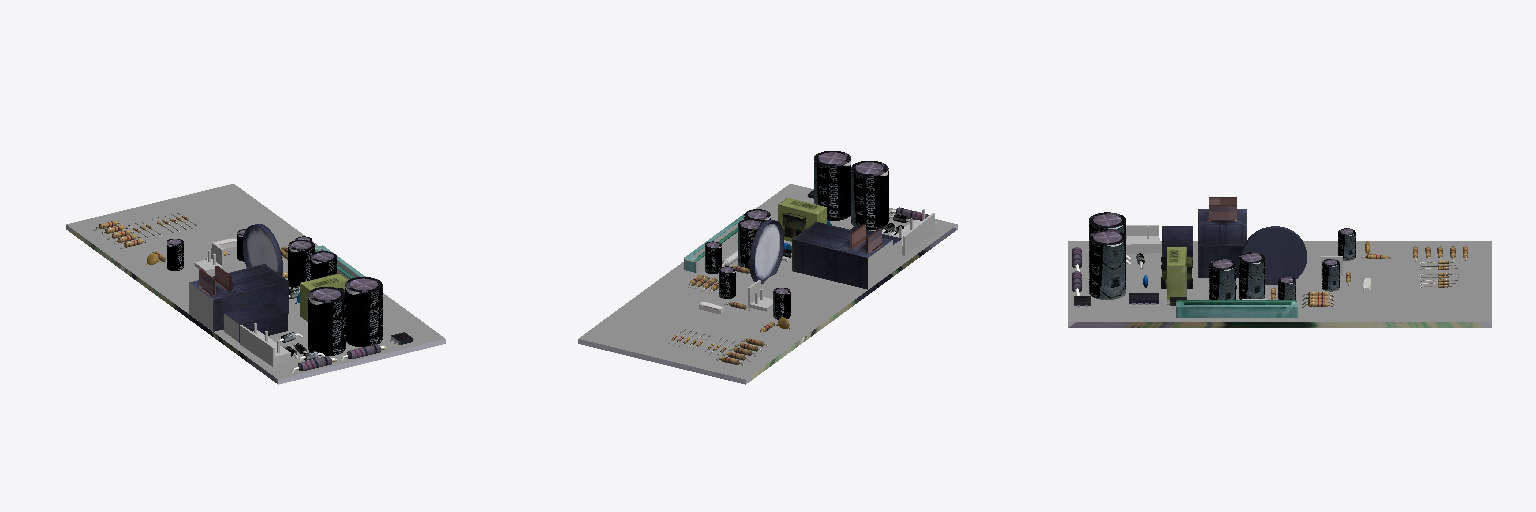
The picture shows the model from 3 angles: view 1: azimuth 30°, elevation 25°; view 2: azimuth 150°, elevation 25°; view 3: azimuth 270°, elevation 25°; orthographic projection.
Visible parts, largest first — view 1: Cube, Cubo, Cilindro.001_Cilindro.050, Cilindro, Cubo.001, Círculo, Cubo.025_Cubo.026, Cilindro.003_Cilindro.052, Cubo.029_Cubo.030, Cilindro.002_Cilindro.051, Cilindro.006_Cilindro.055; view 2: Cube, Cubo, Cilindro, Cilindro.001_Cilindro.050, Círculo, Cubo.031_Cubo.033, Cubo.029_Cubo.030, Cubo.025_Cubo.026, Cilindro.003_Cilindro.052, Cilindro.006_Cilindro.055, Cilindro.005_Cilindro.054; view 3: Cube, Cubo, Cilindro.001_Cilindro.050, Círculo, Cubo.031_Cubo.033, Cilindro.003_Cilindro.052, Cilindro.002_Cilindro.051, Cubo.029_Cubo.030, Cubo.025_Cubo.026, Cubo.001, Cilindro, Cilindro.005_Cilindro.054 (+1 smaller).
Boxes of the visible parts, <box> form: Cube: <box>66,184,445,384</box>; Cubo: <box>189,264,288,331</box>; Cilindro.001_Cilindro.050: <box>345,277,382,346</box>; Cilindro: <box>308,287,345,355</box>; Cubo.001: <box>224,302,287,342</box>; Círculo: <box>242,224,282,275</box>; Cubo.025_Cubo.026: <box>240,325,290,366</box>; Cilindro.003_Cilindro.052: <box>288,240,314,287</box>; Cubo.029_Cubo.030: <box>300,273,347,321</box>; Cilindro.002_Cilindro.051: <box>311,251,336,279</box>; Cilindro.006_Cilindro.055: <box>167,239,183,270</box>; Cube: <box>578,184,957,384</box>; Cubo: <box>792,222,892,289</box>; Cilindro: <box>851,161,888,229</box>; Cilindro.001_Cilindro.050: <box>814,151,850,220</box>; Círculo: <box>749,219,783,283</box>; Cubo.031_Cubo.033: <box>684,214,743,272</box>; Cubo.029_Cubo.030: <box>778,198,826,241</box>; Cubo.025_Cubo.026: <box>894,213,934,255</box>; Cilindro.003_Cilindro.052: <box>738,219,762,268</box>; Cilindro.006_Cilindro.055: <box>773,288,790,319</box>; Cilindro.005_Cilindro.054: <box>719,266,735,298</box>; Cube: <box>1068,241,1491,327</box>; Cubo: <box>1198,197,1246,277</box>; Cilindro.001_Cilindro.050: <box>1089,230,1125,299</box>; Círculo: <box>1242,226,1306,284</box>; Cubo.031_Cubo.033: <box>1176,300,1297,317</box>; Cilindro.003_Cilindro.052: <box>1239,252,1264,299</box>; Cilindro.002_Cilindro.051: <box>1209,259,1235,299</box>; Cubo.029_Cubo.030: <box>1167,247,1186,299</box>; Cubo.025_Cubo.026: <box>1126,225,1160,253</box>; Cubo.001: <box>1162,226,1192,264</box>; Cilindro: <box>1089,212,1125,234</box>; Cilindro.005_Cilindro.054: <box>1322,259,1339,291</box>.
Bounding box in the file's own units: 3.88 × 1.36 × 8.5.
9 materials, 5 textured.